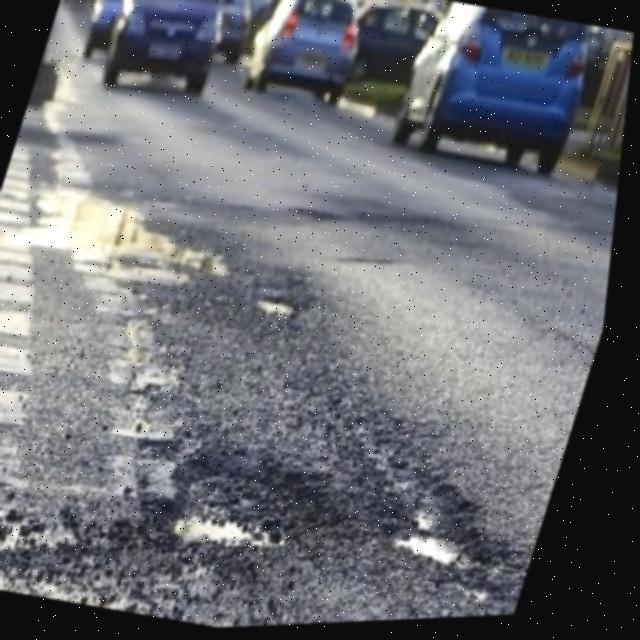pothole: (161, 440, 351, 584), (392, 518, 487, 582), (255, 286, 311, 327)
